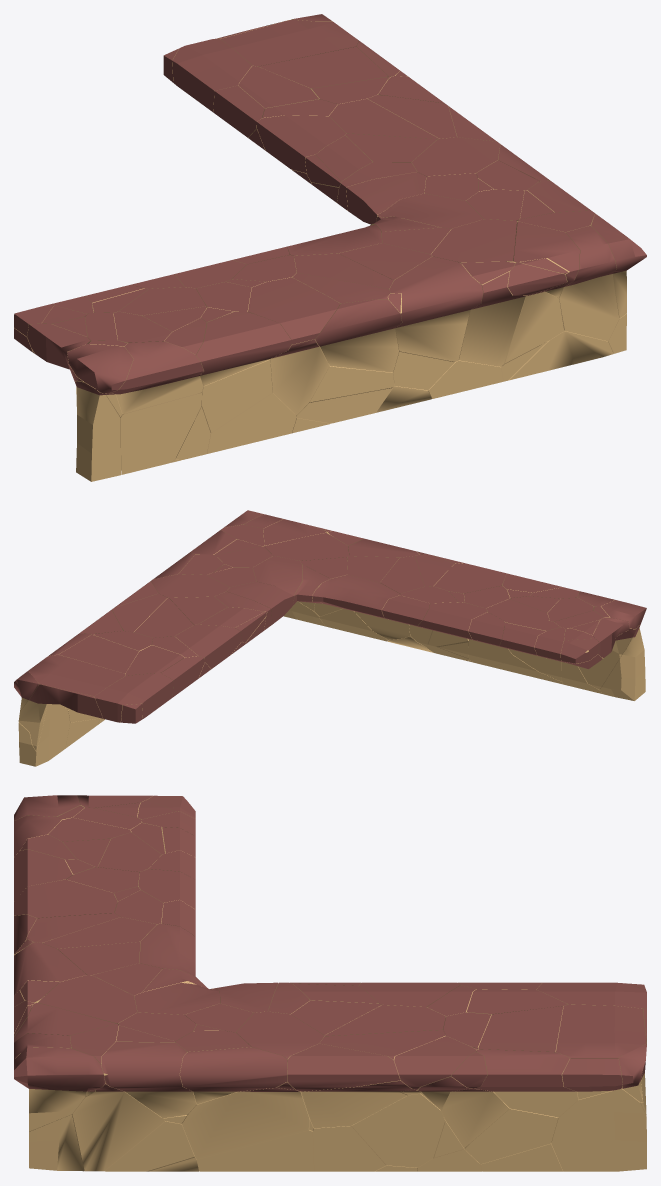
The model's file is Receptionist Desk.fbx.
3 views of the same model, one above another, from view 1: azimuth 30°, elevation 25°; view 2: azimuth 150°, elevation 25°; view 3: azimuth 270°, elevation 25° (orthographic). The views are drawn at different scales.
Visible parts, largest first — view 1: Recept Desk_cell.129, Recept Desk_cell.046, Recept Desk_cell.128, Recept Desk_cell.121, Recept Desk_cell.144, Recept Desk_cell.048, Recept Desk_cell.063, Recept Desk_cell.069, Recept Desk_cell.165, Recept Desk_cell.067, Recept Desk_cell.082, Recept Desk_cell.040 (+53 smaller); view 2: Recept Desk_cell.082, Recept Desk_cell.063, Recept Desk_cell.151, Recept Desk_cell.066, Recept Desk_cell.160, Recept Desk_cell.165, Recept Desk_cell.040, Recept Desk_cell.101, Recept Desk_cell.152, Recept Desk_cell.044, Recept Desk_cell.067, Recept Desk_cell.186 (+52 smaller); view 3: Recept Desk_cell.160, Recept Desk_cell.076, Recept Desk_cell.032, Recept Desk_cell.052, Recept Desk_cell.185, Recept Desk_cell.004, Recept Desk_cell.049, Recept Desk_cell.062, Recept Desk_cell.063, Recept Desk_cell.008, Recept Desk_cell.119, Recept Desk_cell.180 (+64 smaller).
Part boxes in pixels (left/top/right/bottom): Recept Desk_cell.129: left=389, top=256, right=483, bottom=361; Recept Desk_cell.046: left=315, top=299, right=401, bottom=372; Recept Desk_cell.128: left=557, top=226, right=619, bottom=341; Recept Desk_cell.121: left=111, top=341, right=203, bottom=413; Recept Desk_cell.144: left=196, top=311, right=291, bottom=385; Recept Desk_cell.048: left=121, top=393, right=201, bottom=474; Recept Desk_cell.063: left=221, top=20, right=358, bottom=66; Recept Desk_cell.069: left=459, top=261, right=527, bottom=366; Recept Desk_cell.165: left=75, top=381, right=120, bottom=481; Recept Desk_cell.067: left=248, top=277, right=340, bottom=344; Recept Desk_cell.082: left=172, top=38, right=251, bottom=111; Recept Desk_cell.040: left=256, top=115, right=346, bottom=172; Recept Desk_cell.082: left=94, top=673, right=173, bottom=722; Recept Desk_cell.063: left=28, top=654, right=125, bottom=696; Recept Desk_cell.151: left=312, top=574, right=399, bottom=620; Recept Desk_cell.066: left=18, top=684, right=103, bottom=750; Recept Desk_cell.160: left=18, top=704, right=69, bottom=766; Recept Desk_cell.165: left=599, top=624, right=645, bottom=700; Recept Desk_cell.040: left=175, top=624, right=241, bottom=668; Recept Desk_cell.101: left=58, top=635, right=138, bottom=674; Recept Desk_cell.152: left=416, top=602, right=487, bottom=641; Recept Desk_cell.044: left=264, top=533, right=349, bottom=560; Recept Desk_cell.067: left=433, top=563, right=506, bottom=593; Recept Desk_cell.186: left=150, top=574, right=229, bottom=597; Recept Desk_cell.160: left=551, top=1088, right=646, bottom=1171; Recept Desk_cell.076: left=182, top=1081, right=313, bottom=1159; Recept Desk_cell.032: left=101, top=1041, right=196, bottom=1118; Recept Desk_cell.052: left=14, top=1047, right=105, bottom=1131; Recept Desk_cell.185: left=66, top=1083, right=164, bottom=1171; Recept Desk_cell.004: left=475, top=1049, right=578, bottom=1117; Recept Desk_cell.049: left=351, top=1093, right=445, bottom=1167; Recept Desk_cell.062: left=179, top=1047, right=287, bottom=1104; Recept Desk_cell.063: left=556, top=1004, right=646, bottom=1058; Recept Desk_cell.008: left=287, top=1043, right=399, bottom=1091; Recept Desk_cell.119: left=301, top=1080, right=412, bottom=1128; Recept Desk_cell.180: left=196, top=1130, right=314, bottom=1171.
Size of the model in its own units: 405 by 82.77 by 404.
